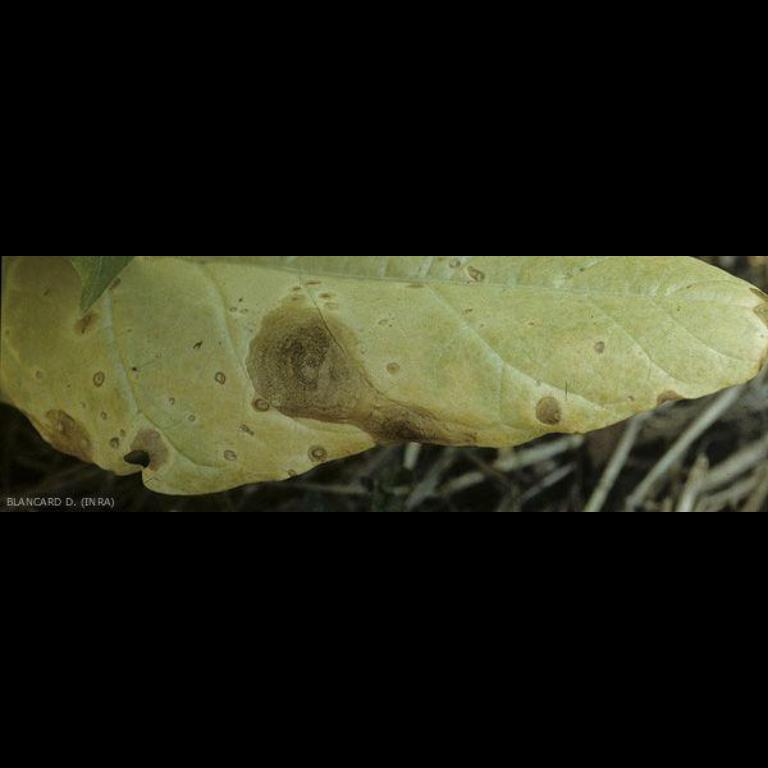blight: (235, 302, 431, 434)
